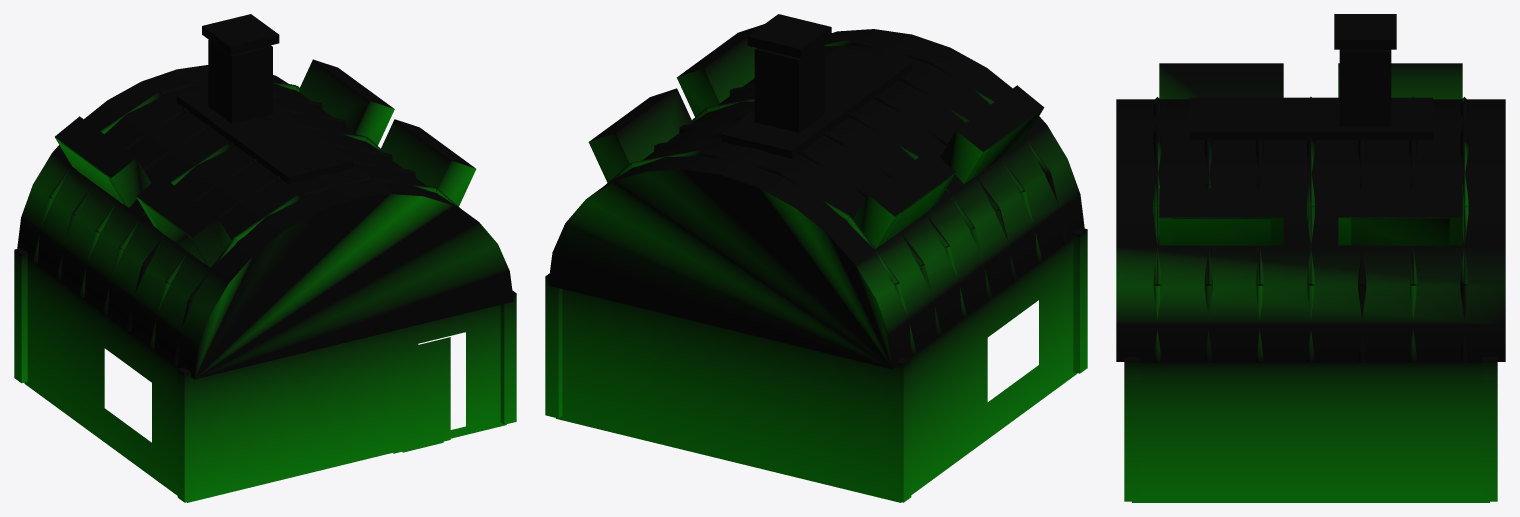
File: singlecivlivinga.glb
3 renders of one model, left to right at view 1: azimuth 30°, elevation 25°; view 2: azimuth 150°, elevation 25°; view 3: azimuth 270°, elevation 25°, orthographic. The views are drawn at different scales.
Visible parts, largest first — view 1: lod0; view 2: lod0; view 3: lod0.
Part boxes in pixels (bbox=[...]): lod0: bbox=[14, 14, 516, 502]; lod0: bbox=[545, 14, 1087, 502]; lod0: bbox=[1116, 14, 1505, 502].
Size of what is drawn, in the model's own units: 8.1 by 8.3 by 7.5.
